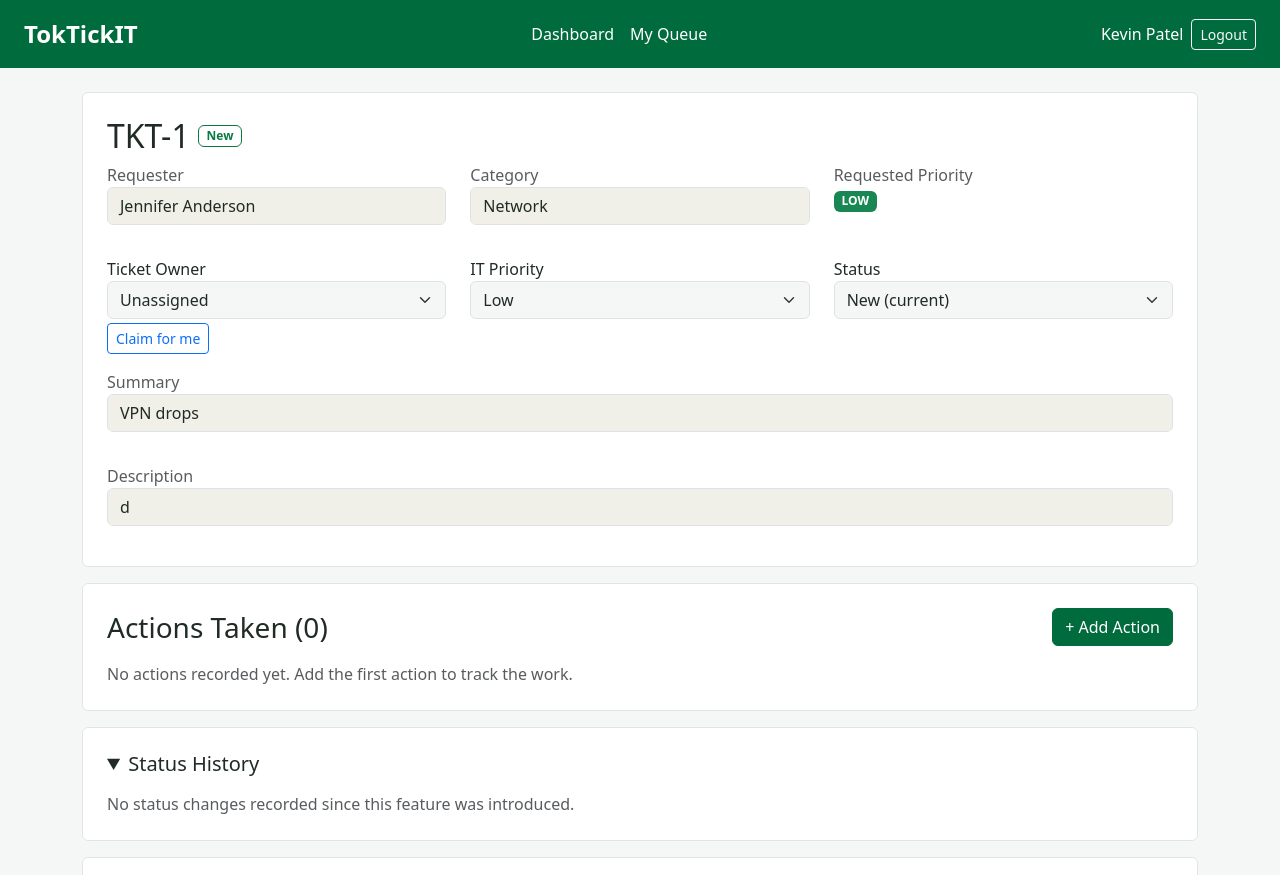
it: Ticket workflow UI › shows a conflict banner on 409 and reloads the ticket (UI-11, AC-10)
Select "Open" in the dropdown with test id "status-select". click: (1003, 300)
box: [834,281,1173,319]
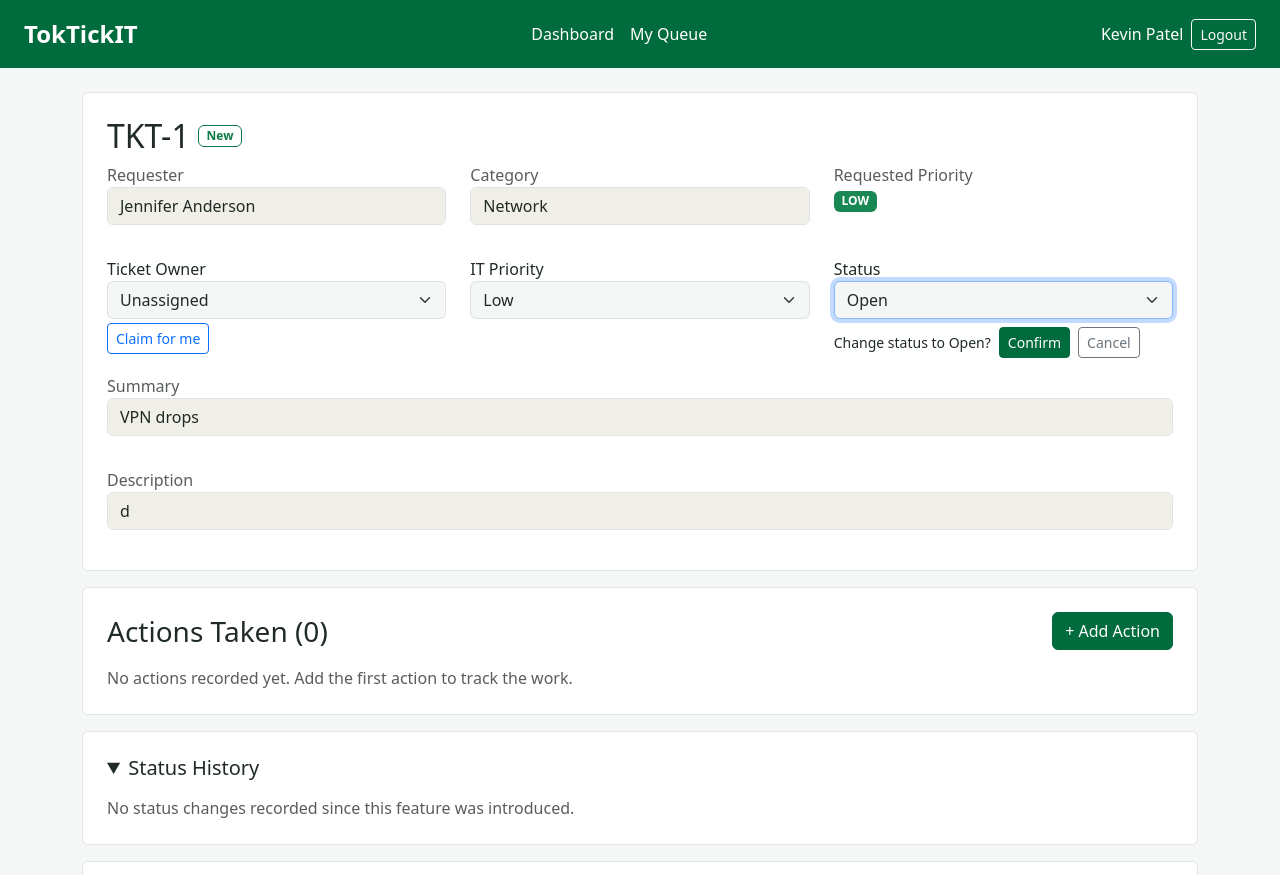
Click the button "Confirm". click: (1034, 343)
box: [999,327,1070,358]
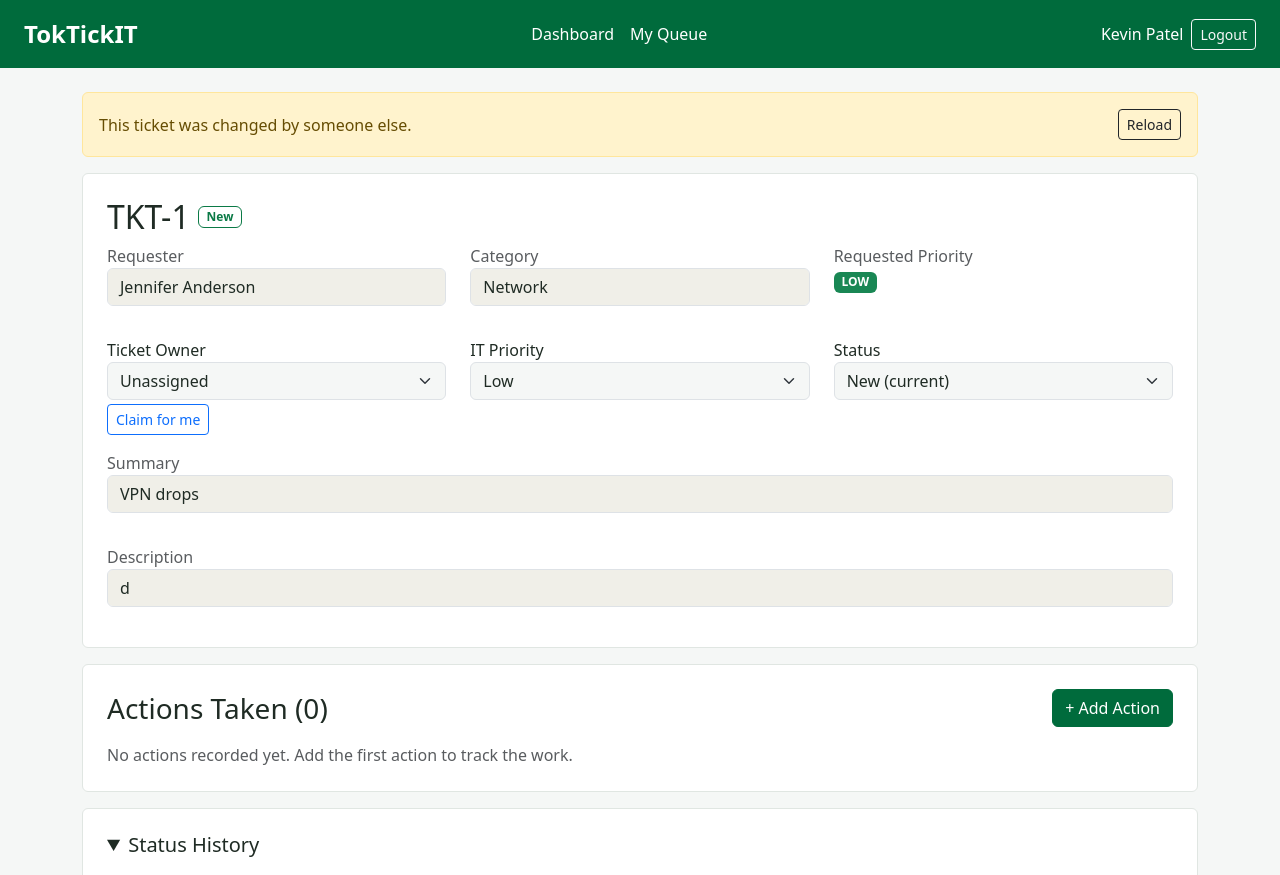
Check: the text "This ticket was changed by someone else." is shown, box [99,112,412,136]
Click the button "Reload". click: (1149, 124)
box: [1118,109,1181,140]
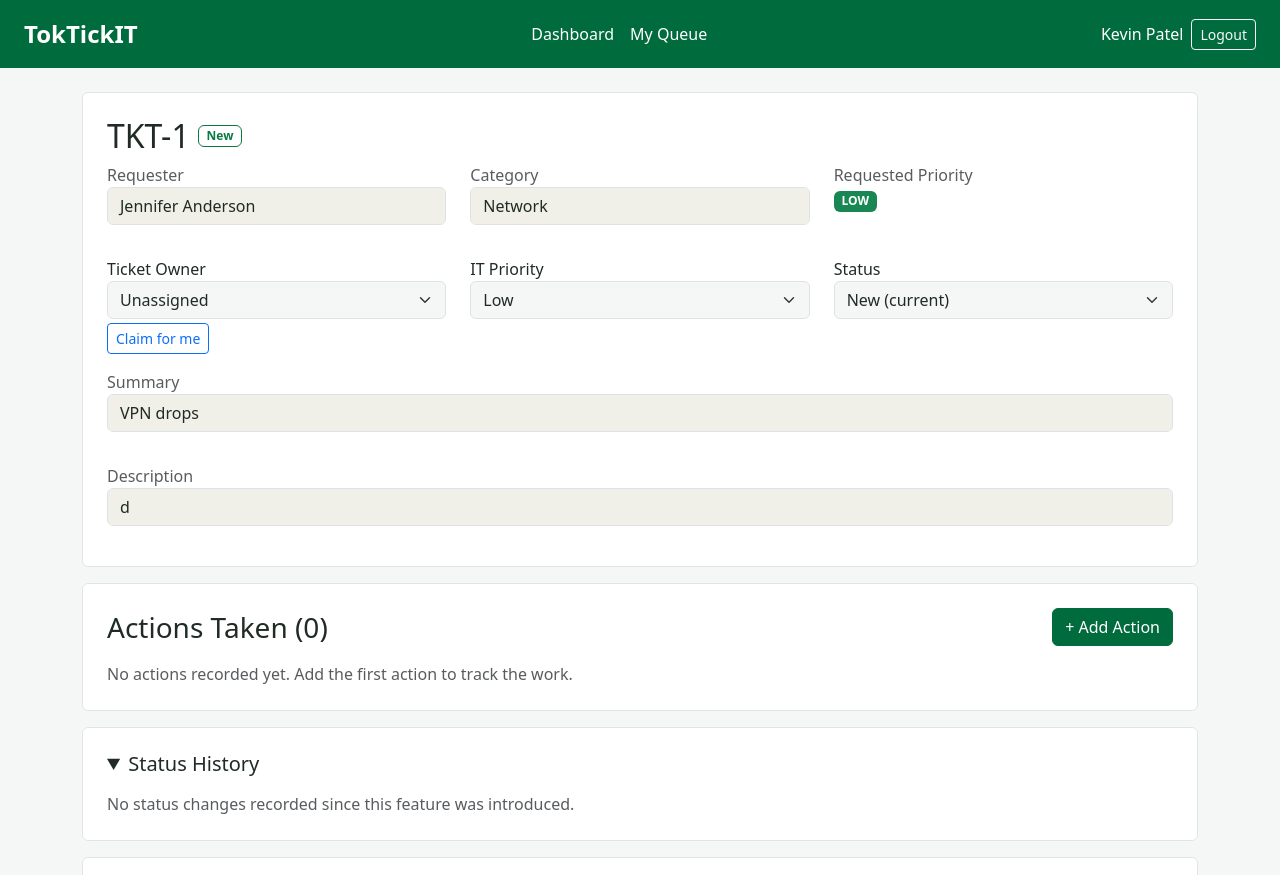
Check: the text "This ticket was changed by someone else." is gone
